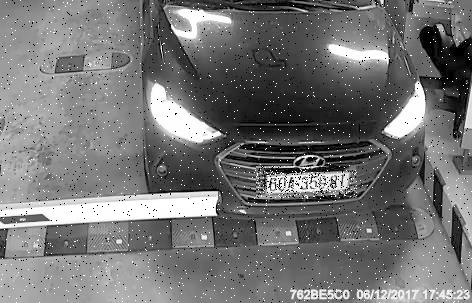License-plate: (258, 168, 359, 200)
